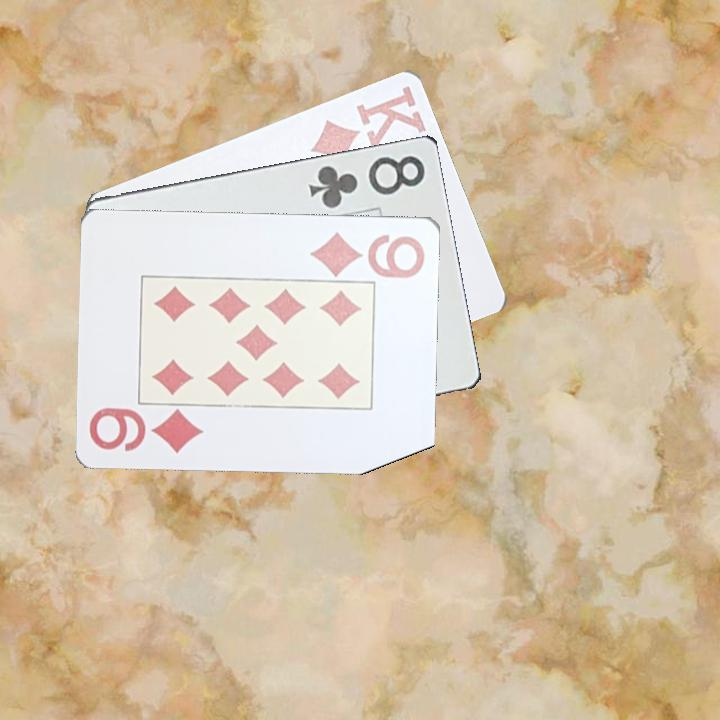8c: (305, 151, 429, 211)
9d: (307, 227, 428, 279), (86, 405, 207, 455)
Kd: (306, 81, 428, 164)
